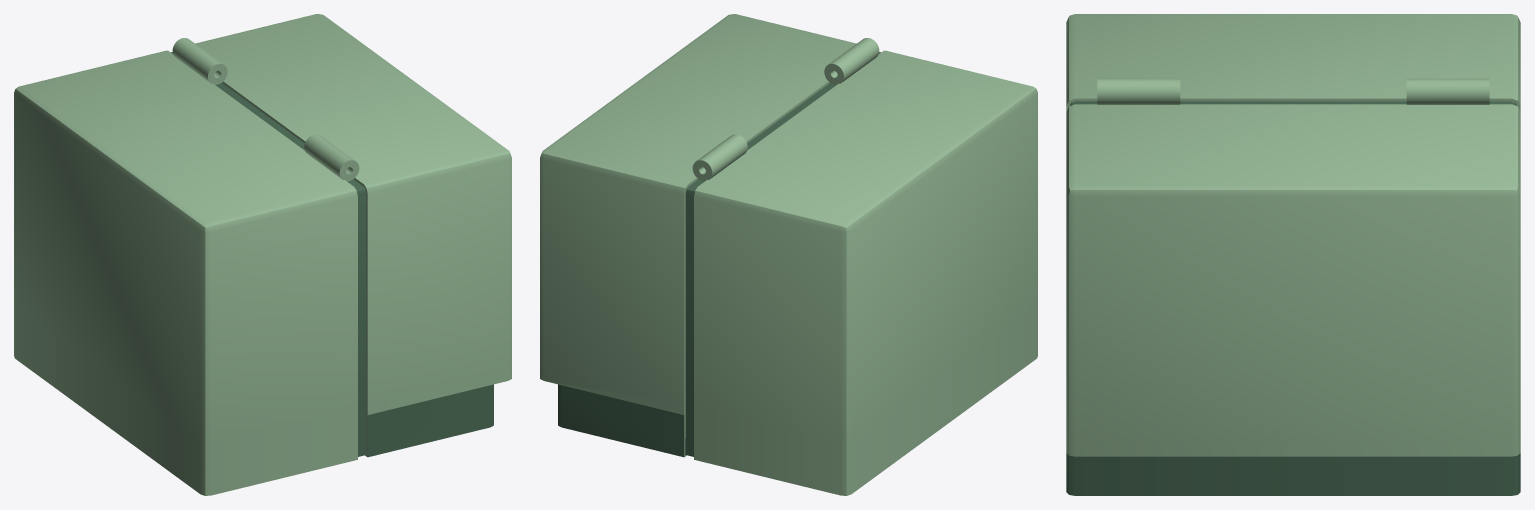
Rendered from Power_Transformer.fbx.
3 views of the same model, side by side, from view 1: azimuth 30°, elevation 25°; view 2: azimuth 150°, elevation 25°; view 3: azimuth 270°, elevation 25° (orthographic). The views are drawn at different scales.
Parts seen in each view (by area): view 1: Power_Transformer; view 2: Power_Transformer; view 3: Power_Transformer.
Boxes of the visible parts, <box> form: Power_Transformer: <box>14,14,511,495</box>; Power_Transformer: <box>540,14,1037,495</box>; Power_Transformer: <box>1066,14,1520,495</box>.
Bounding box in the file's own units: 3.83 × 4.13 × 3.4.
